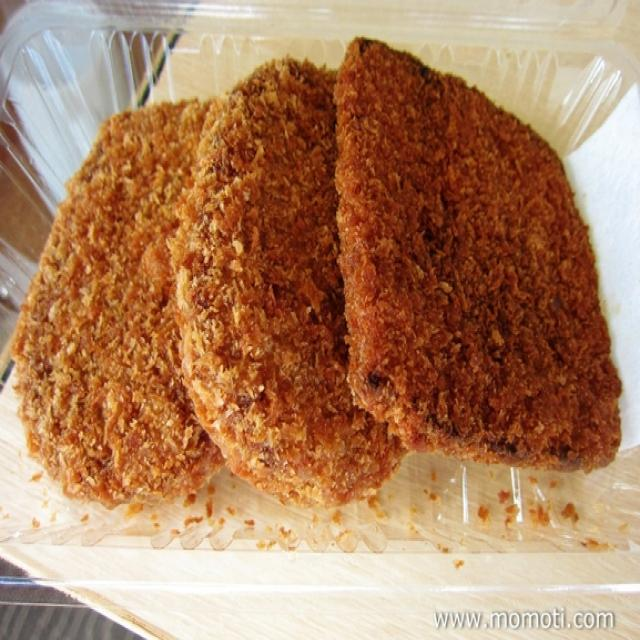炸货点心: (30, 21, 623, 578)
